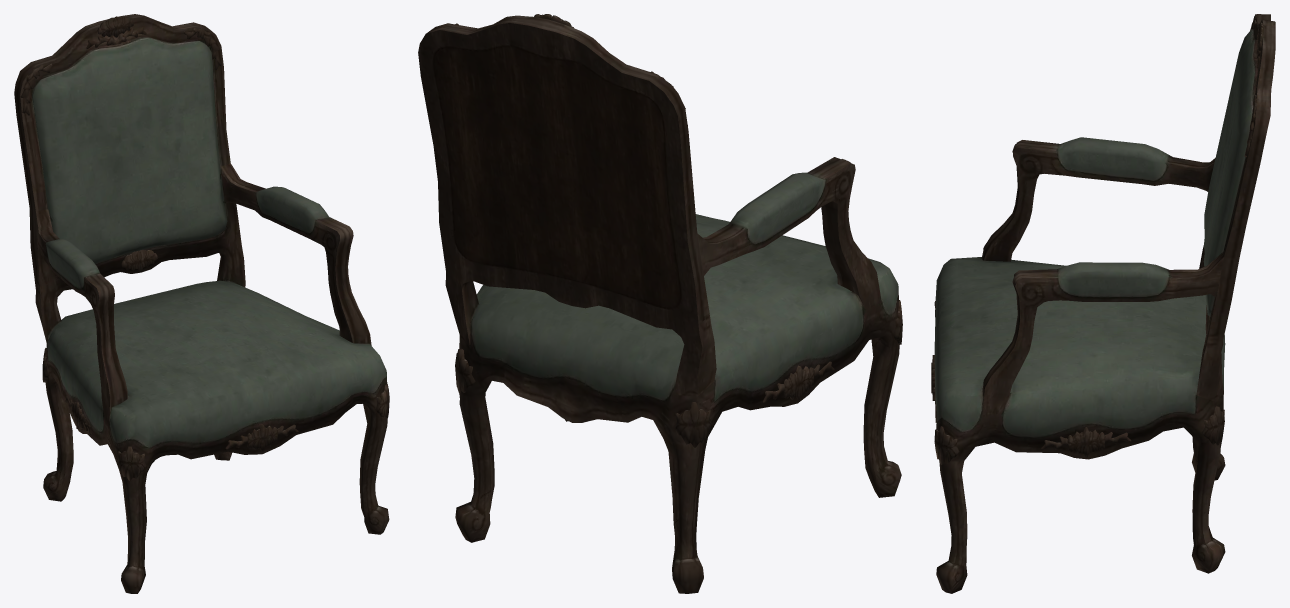
File: GreenChair_01_4k-transformed.glb
The picture shows the model from 3 angles, left to right: view 1: azimuth 30°, elevation 25°; view 2: azimuth 150°, elevation 25°; view 3: azimuth 270°, elevation 25°; orthographic projection. The views are drawn at different scales.
Parts seen in each view (by area): view 1: GreenChair_01; view 2: GreenChair_01; view 3: GreenChair_01.
Part boxes in pixels (x1,y1,x2,y2): GreenChair_01: (14, 14, 389, 593); GreenChair_01: (418, 14, 902, 593); GreenChair_01: (931, 14, 1275, 593).
Size of the model in its own units: 0.6731 by 1.06 by 0.6644.
1 material, 1 textured.
